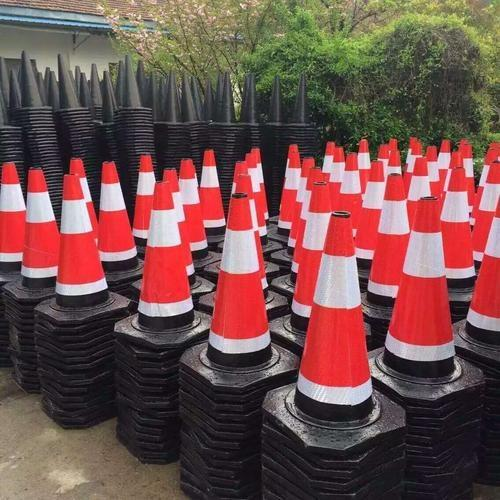cone_barrel: (287, 213, 380, 432), (385, 199, 465, 389), (199, 190, 275, 373), (129, 181, 197, 332), (51, 173, 113, 312), (287, 182, 333, 333), (365, 173, 409, 306), (16, 163, 59, 293), (461, 209, 498, 351), (96, 159, 140, 273), (438, 167, 476, 287), (358, 150, 387, 260), (175, 157, 206, 256), (472, 158, 499, 265), (197, 148, 225, 234), (274, 150, 300, 240), (131, 154, 156, 236), (337, 152, 362, 222), (405, 154, 432, 202), (355, 134, 370, 177)
